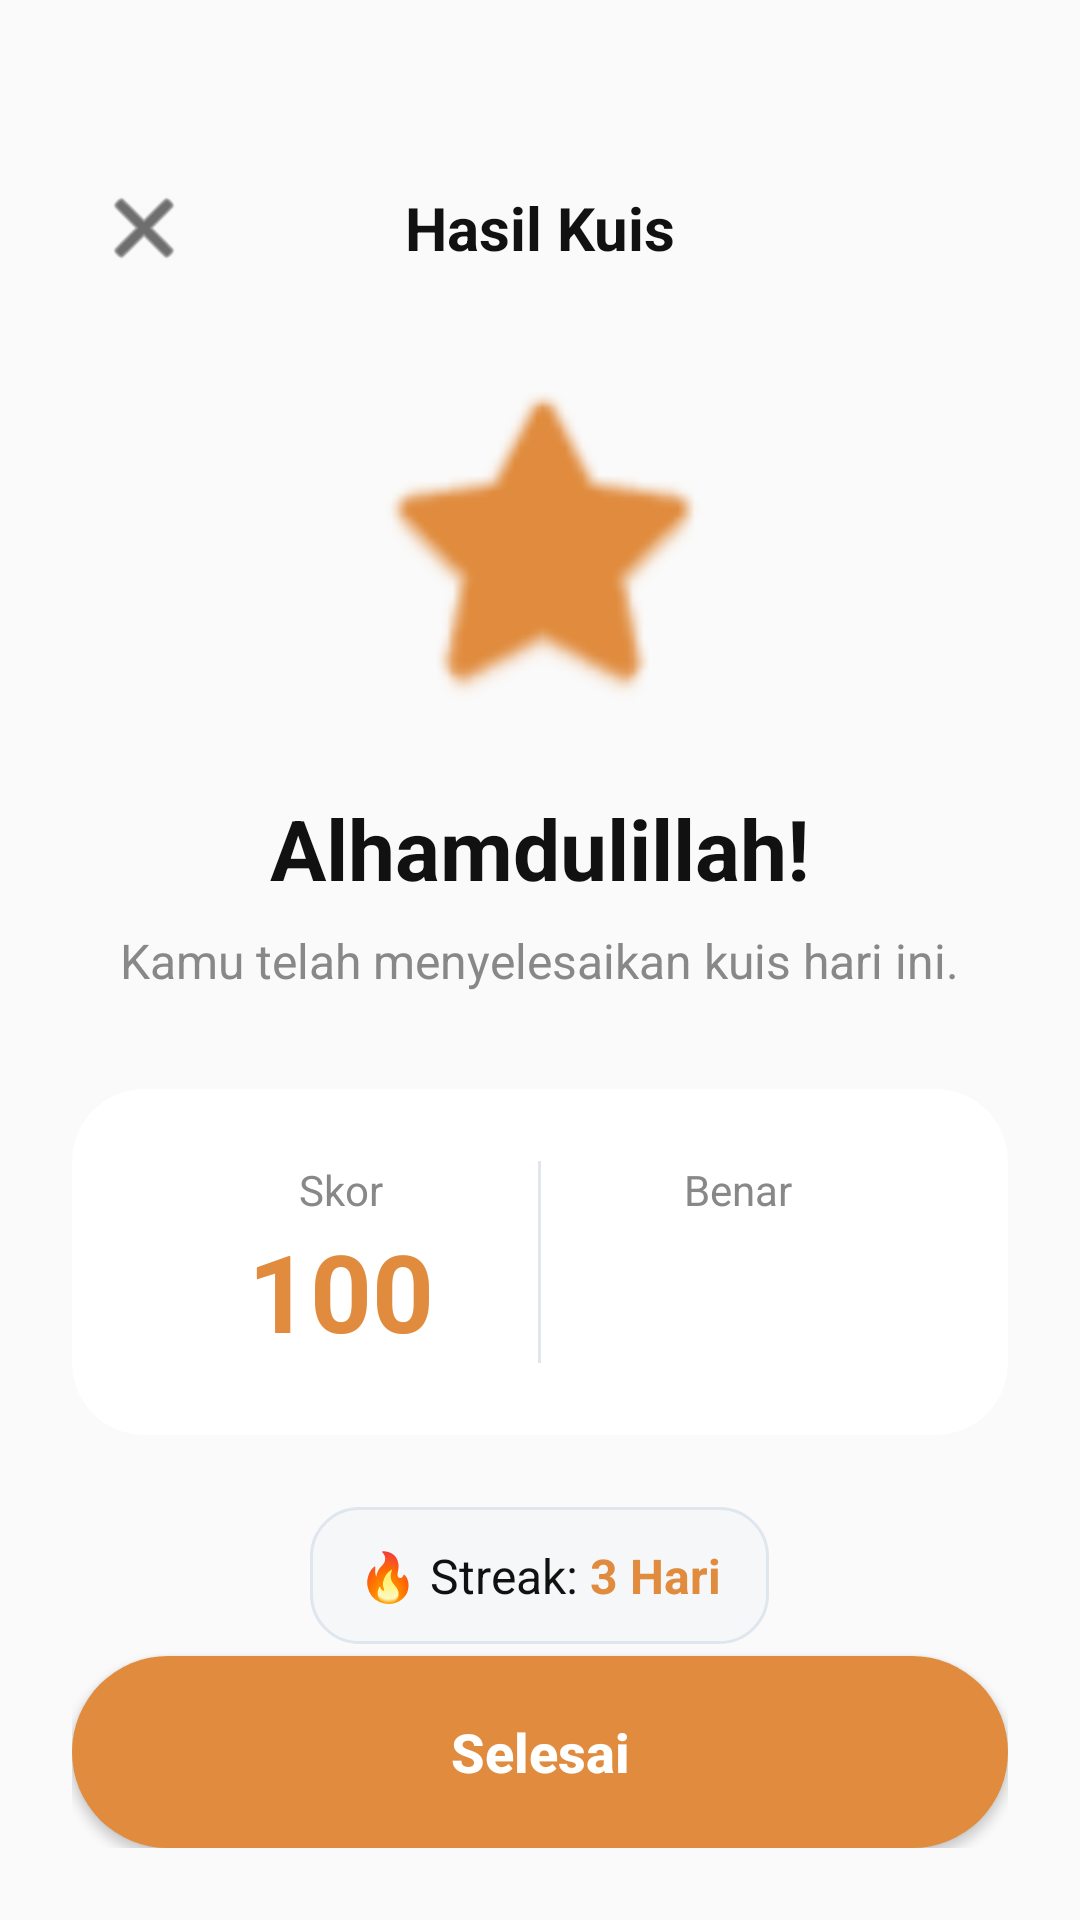

Icon bounding boxes for this 1080x1920 phone screenshot, format {"x1": x1, "y1": y1, "x2": x2, "y2": y2}:
close clear cancel: {"x1": 114, "y1": 198, "x2": 174, "y2": 258}
star on: {"x1": 393, "y1": 397, "x2": 693, "y2": 688}
